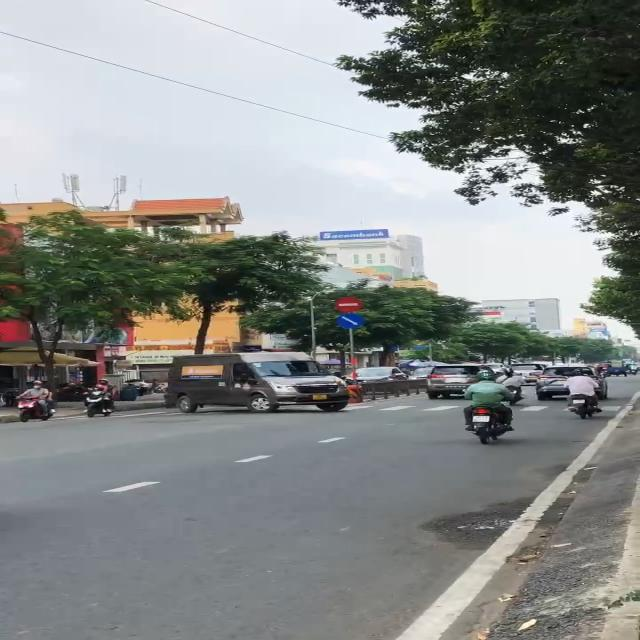Bien bao cam di nguoc chieu: (329, 296, 365, 314)
Bien bao huong phai di vong chuong ngai vat: (331, 312, 373, 335)
